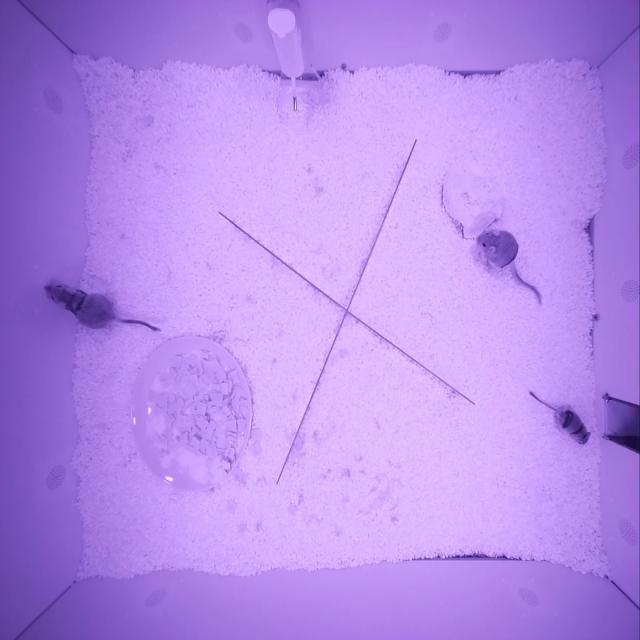adult_back: (475, 229, 519, 270)
adult_front: (43, 282, 114, 330)
pup_h_stripe: (557, 408, 591, 445)
